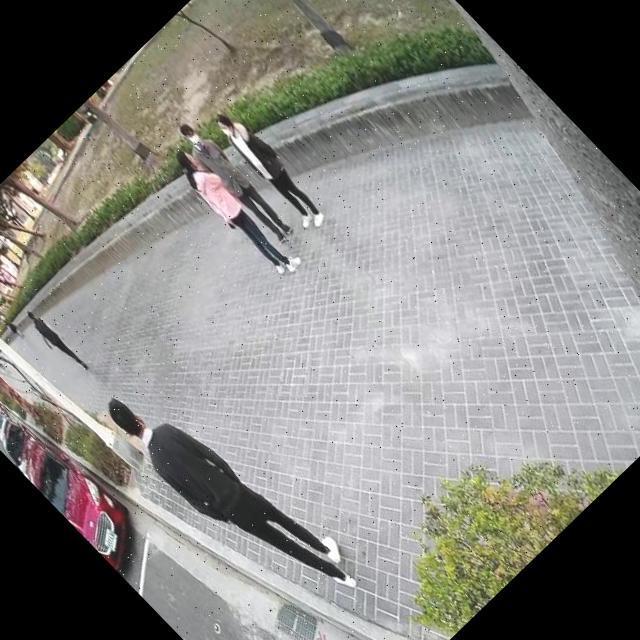person: (90, 348, 372, 636), (160, 134, 308, 286), (165, 108, 304, 250), (202, 98, 338, 237), (17, 299, 97, 382)
